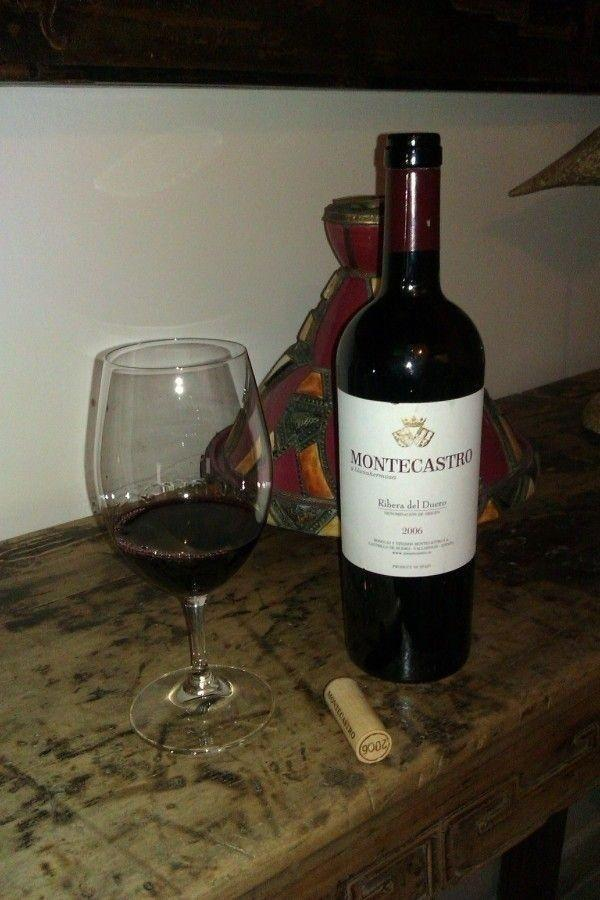bottle-glass: (330, 127, 490, 685)
glass-wine: (84, 335, 277, 758)
